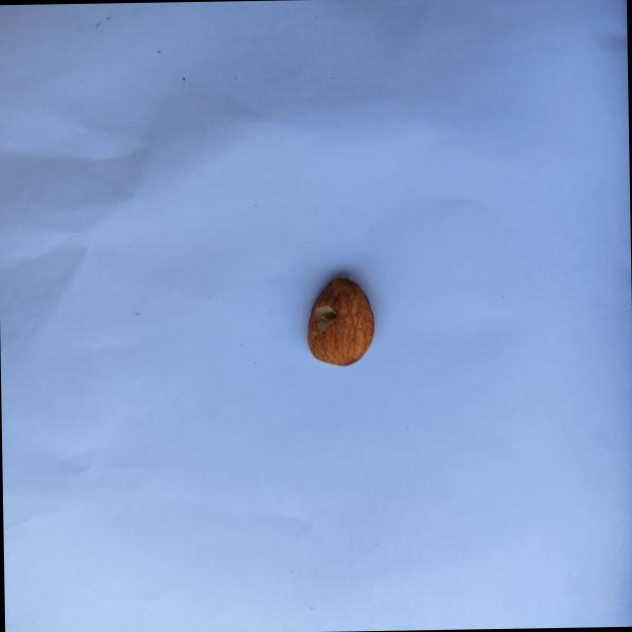grade3: (301, 272, 377, 371)
